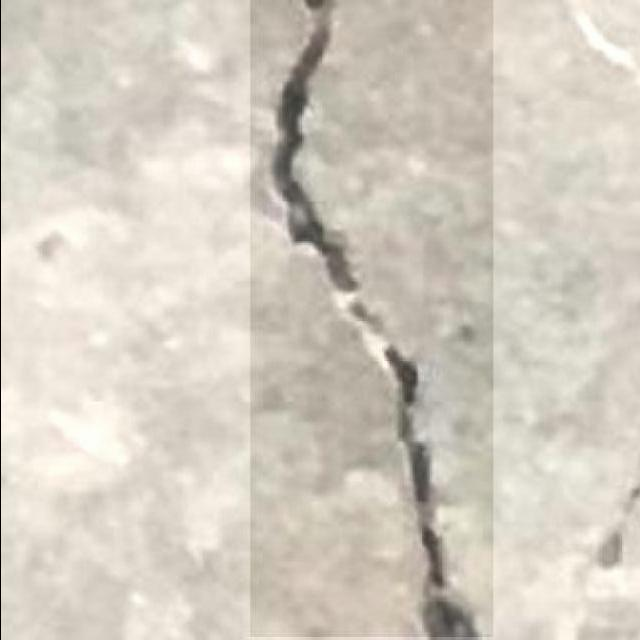SurfaceCrack: (236, 0, 504, 640)
